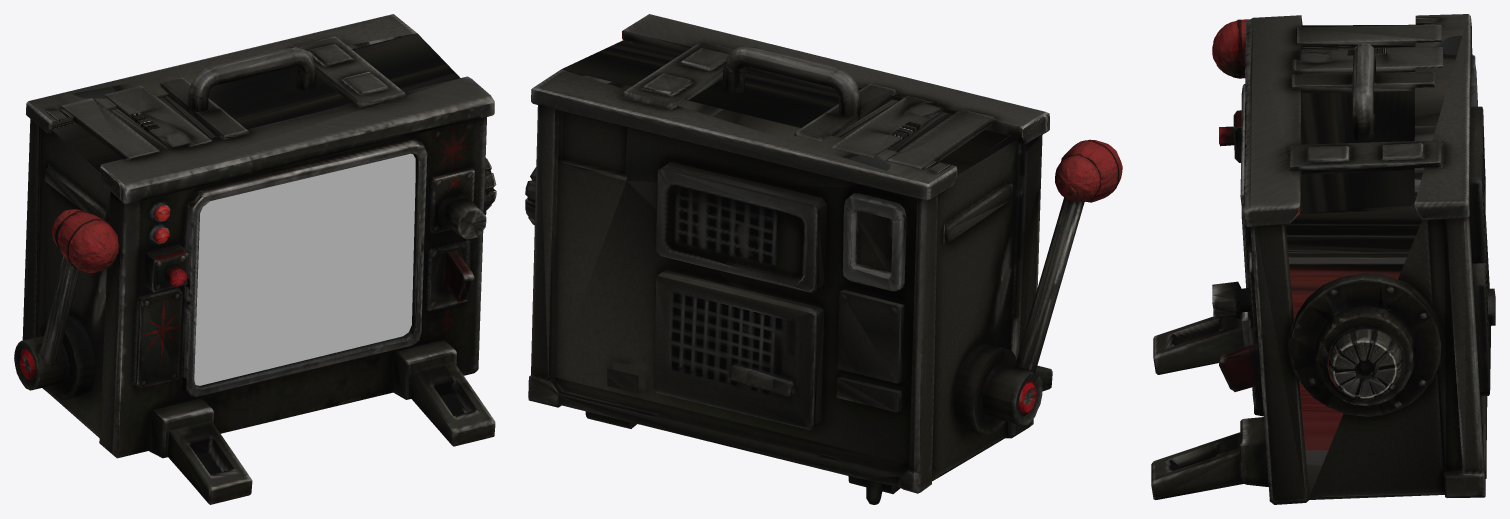
Rendered from TvBox.glb.
The picture shows the model from 3 angles, left to right: view 1: azimuth 30°, elevation 25°; view 2: azimuth 150°, elevation 25°; view 3: azimuth 270°, elevation 25°; orthographic projection. The views are drawn at different scales.
Parts seen in each view (by area): view 1: Plane; view 2: Plane; view 3: Plane.
Boxes of the visible parts, box(x1,y1,x2,y2) form: Plane: box(14, 14, 496, 504); Plane: box(525, 14, 1122, 504); Plane: box(1151, 14, 1495, 504).
Size of the model in its own units: 0.998 by 0.6895 by 0.5957.
2 materials, 1 textured.
